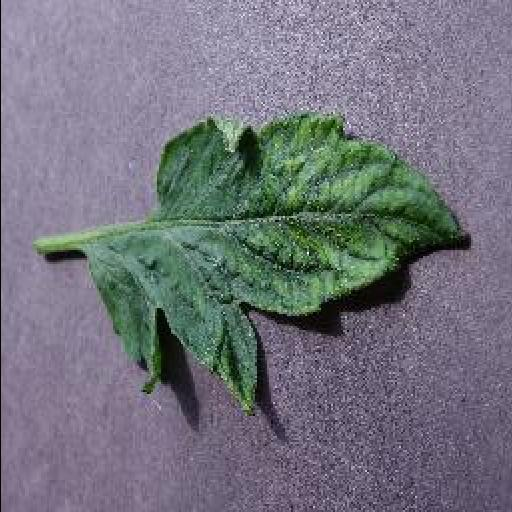disease_tomato: (84, 116, 476, 422)
